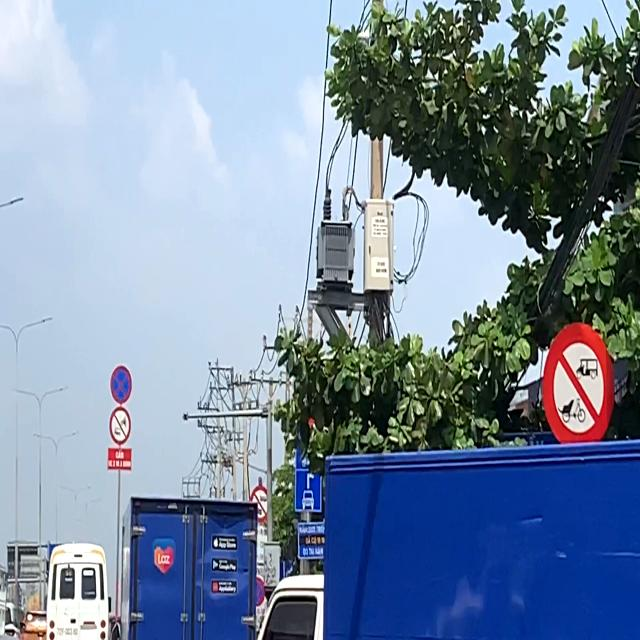P.130: (110, 365, 132, 405)
